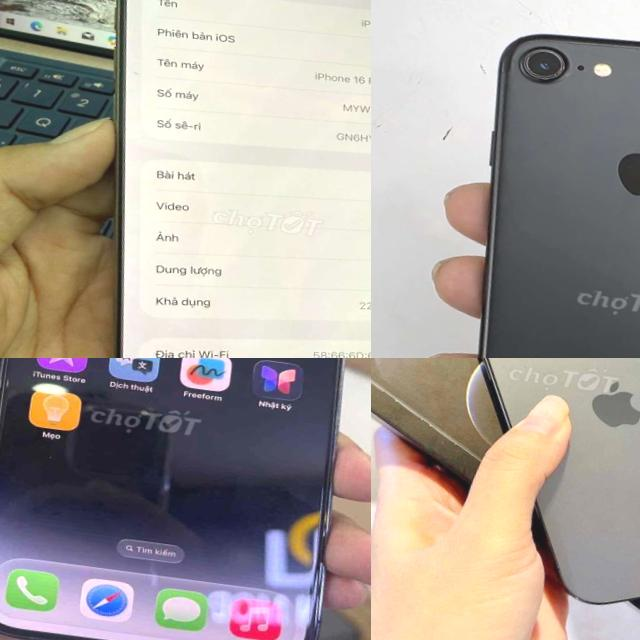gen_14: (0, 358, 371, 640), (414, 358, 640, 635)
gen_16: (116, 0, 371, 358)
gen_7_8: (425, 5, 640, 358)
scratch: (511, 38, 573, 88)
